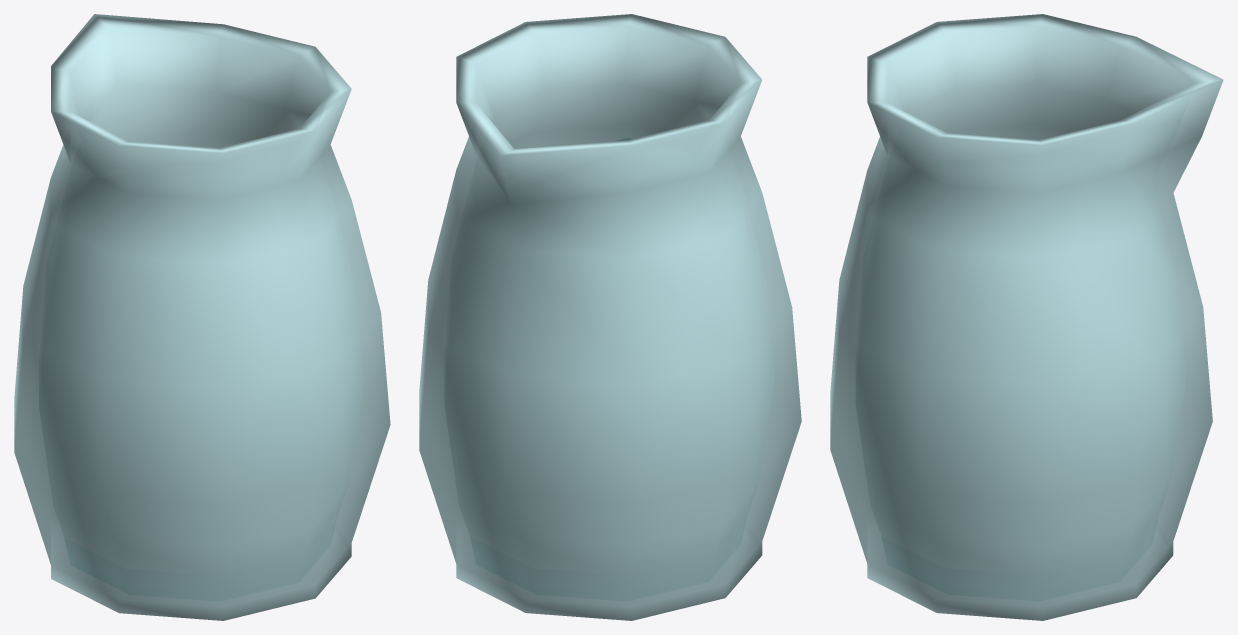
The model's file is glass.glb.
The picture shows the model from 3 angles, left to right: view 1: azimuth 30°, elevation 25°; view 2: azimuth 150°, elevation 25°; view 3: azimuth 270°, elevation 25°; orthographic projection.
Parts seen in each view (by area): view 1: Cylinder, Cylinder.001; view 2: Cylinder, Cylinder.001; view 3: Cylinder, Cylinder.001.
Part boxes in pixels (box(x1,y1,x2,y2)): Cylinder: box(14, 14, 390, 620); Cylinder.001: box(66, 526, 334, 600); Cylinder: box(419, 14, 801, 620); Cylinder.001: box(471, 137, 745, 600); Cylinder: box(830, 14, 1223, 620); Cylinder.001: box(883, 520, 1157, 600).
Bounding box in the file's own units: 2.22 × 2.99 × 2.24.
